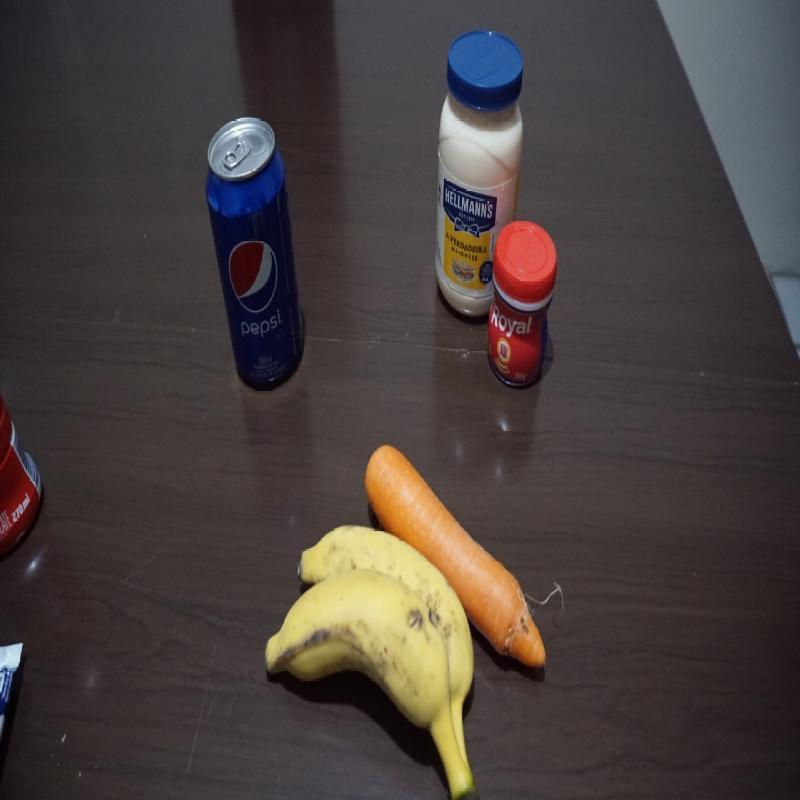Banana: (279, 517, 474, 799)
Carrot: (374, 434, 546, 660)
Mayonnaise: (430, 34, 512, 316)
Soda can: (196, 113, 307, 390)
Yeast: (492, 220, 554, 390)
